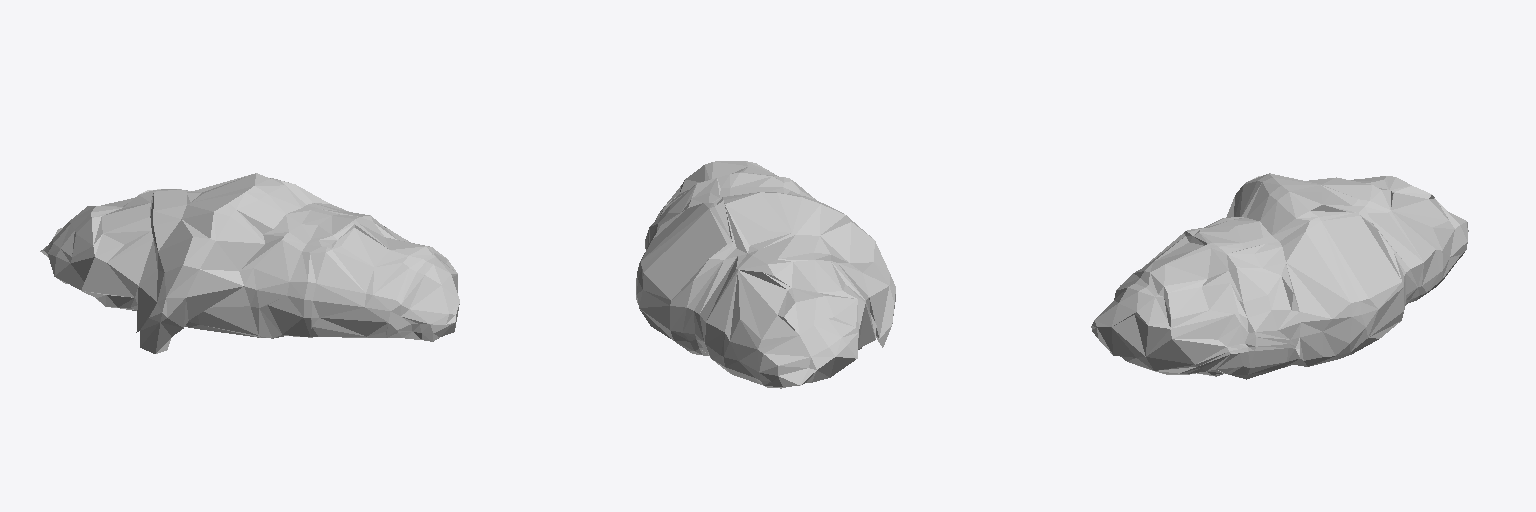
File: Croissant2.obj
The picture shows the model from 3 angles: view 1: azimuth 30°, elevation 25°; view 2: azimuth 150°, elevation 25°; view 3: azimuth 270°, elevation 25°; orthographic projection.
Visible parts, largest first — view 1: pasted__pasted__polySurface4169 croissant5k17:croissant5k20:Mesh; view 2: pasted__pasted__polySurface4169 croissant5k17:croissant5k20:Mesh; view 3: pasted__pasted__polySurface4169 croissant5k17:croissant5k20:Mesh.
Boxes of the visible parts, x1,y1,x2,y2 form: pasted__pasted__polySurface4169 croissant5k17:croissant5k20:Mesh: [40, 173, 459, 353]; pasted__pasted__polySurface4169 croissant5k17:croissant5k20:Mesh: [636, 161, 895, 388]; pasted__pasted__polySurface4169 croissant5k17:croissant5k20:Mesh: [1091, 173, 1468, 379].
Size of the model in its own units: 0.1394 by 0.0605 by 0.1564.